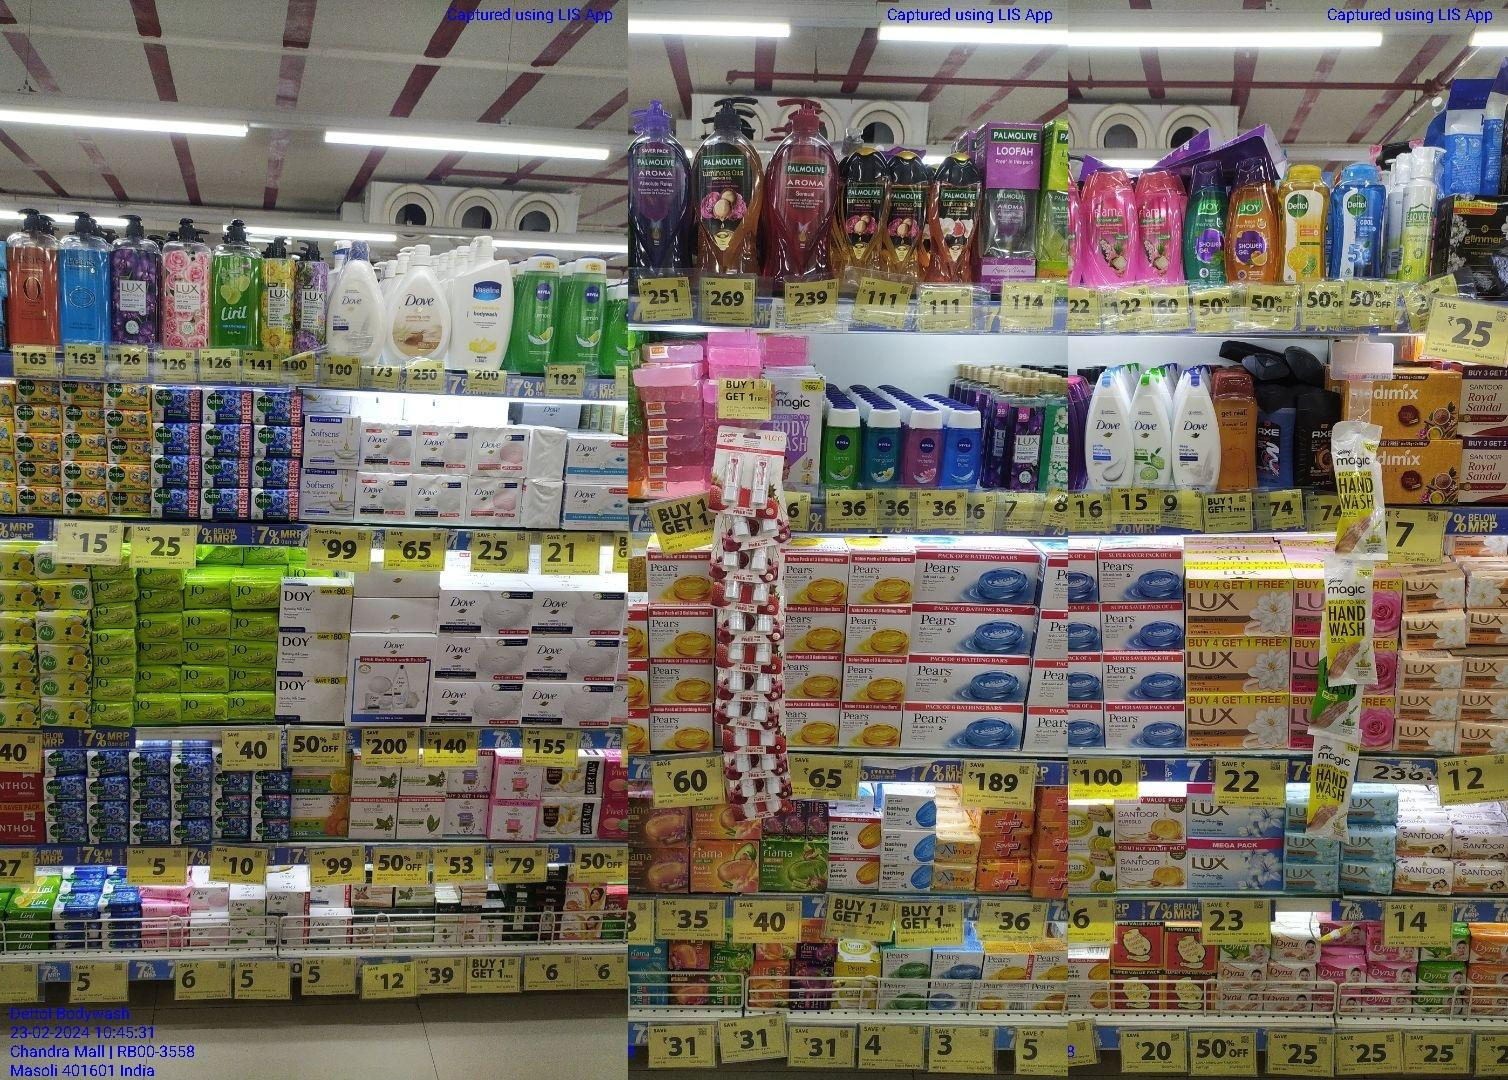Dettol_Bodywash_Cool: (1330, 164, 1384, 278)
Dettol_Bodywash_Refresh: (1279, 167, 1328, 282)
Dove_Deep_Moisture_Body_Wash_250ML: (1172, 376, 1220, 493)
Dove_Gentle_Exfoliating_Body_Wash_250ML: (1087, 378, 1135, 489)
Fiama_Shower_Gel_Patchouli_and_Macadamia_250ML: (1085, 169, 1136, 288)
Joy_Shower_Gel_Mandarin_and_Lemongrass_250ML: (1225, 160, 1278, 283)
Lux_Black_Orchid_Scent_and_Juniper_Oil_Body_Wash_245ML: (1007, 380, 1042, 491)
Nivea_Shower_Gel_Frangipani_and_Oil_250ML: (863, 410, 902, 489)
Nivea_Shower_Gel_Lemon_and_Oil_250ML: (514, 257, 560, 374), (565, 257, 606, 375), (823, 410, 859, 490)
Nivea_Shower_Gel_Waterlily_and_Oil_250ML: (907, 411, 942, 489)
Palmolive_Luminous_Oils_Invigorating_Macadamia_Oil_With_Peony_250ML: (839, 153, 886, 289)
Palmolive_Luminous_Oils_With_White_Orchid_Shower_Gel_250ML: (931, 155, 982, 282)
